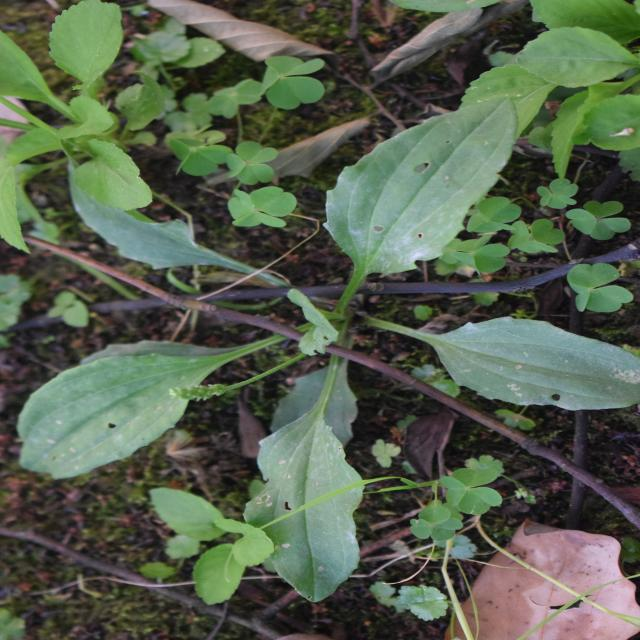plantain: (88, 41, 528, 566)
